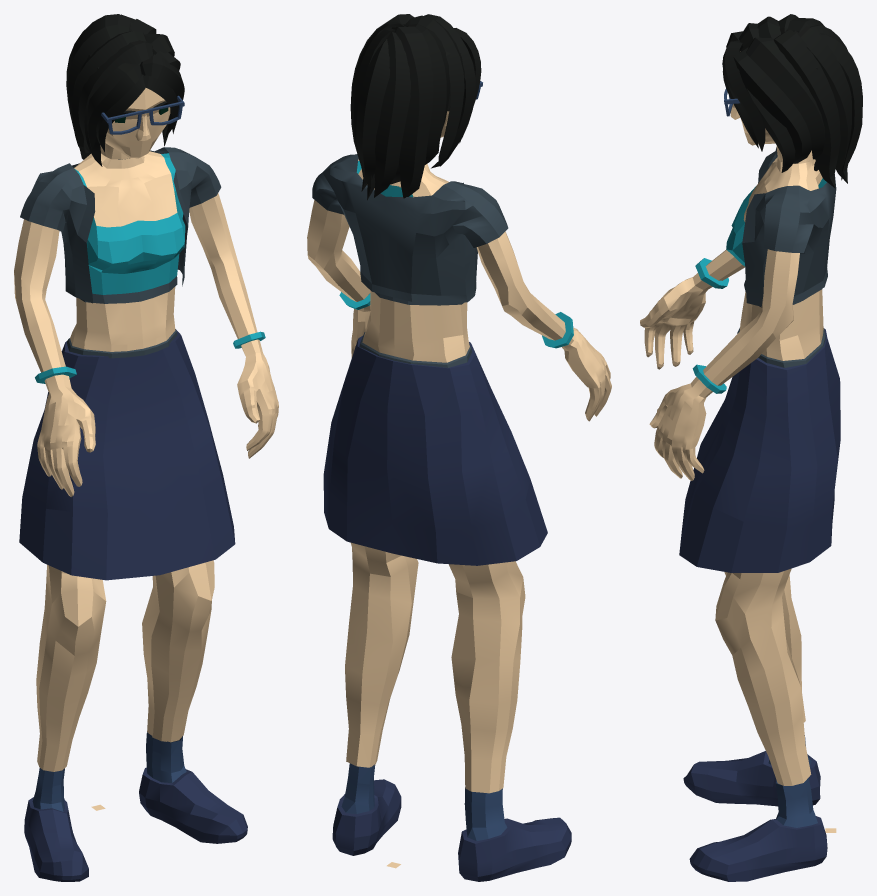
The model's file is avatar-modular-female-impostor.glb.
3 renders of one model, left to right at view 1: azimuth 30°, elevation 25°; view 2: azimuth 150°, elevation 25°; view 3: azimuth 270°, elevation 25°, orthographic. The views are drawn at different scales.
Parts seen in each view (by area): view 1: female; view 2: female; view 3: female.
Part boxes in pixels (<box>): female: <box>14,14,278,881</box>; female: <box>307,14,611,881</box>; female: <box>640,14,862,881</box>.
Size of the model in its own units: 51.43 by 165 by 40.66.
